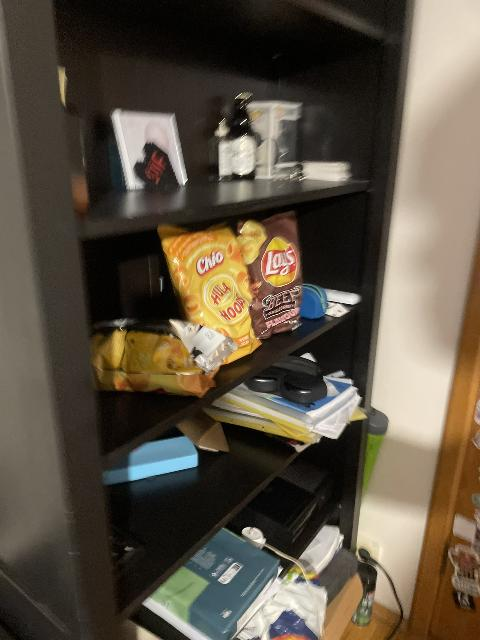Chio Cascaval 125g: (91, 320, 223, 396)
Chio Hula Hoops Cheese 70g: (158, 220, 263, 362)
Lays Beef Grilled Ribs 125g: (240, 211, 305, 337)
